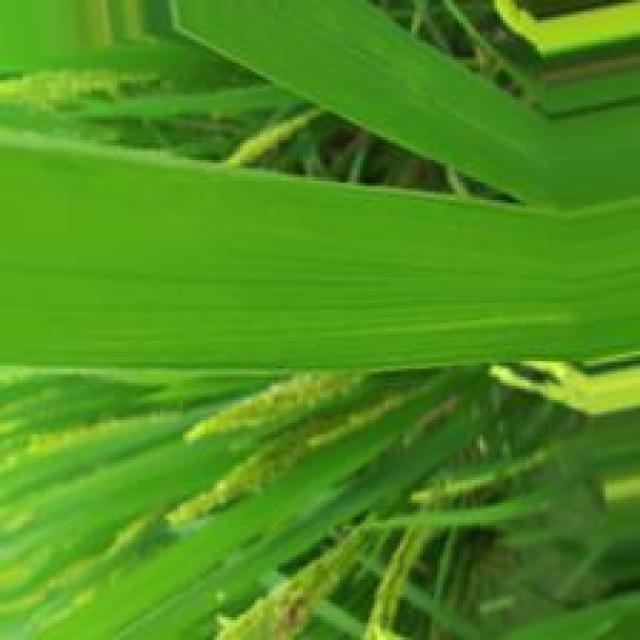HealthyLeaf: (5, 149, 558, 363)
